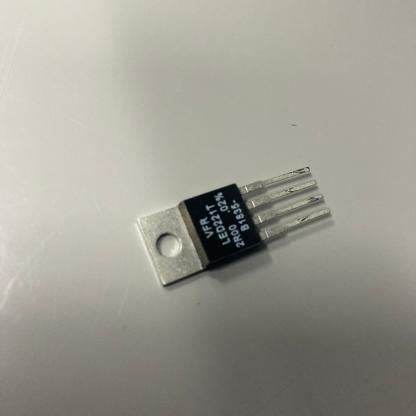SP0000012: (106, 132, 345, 316)
